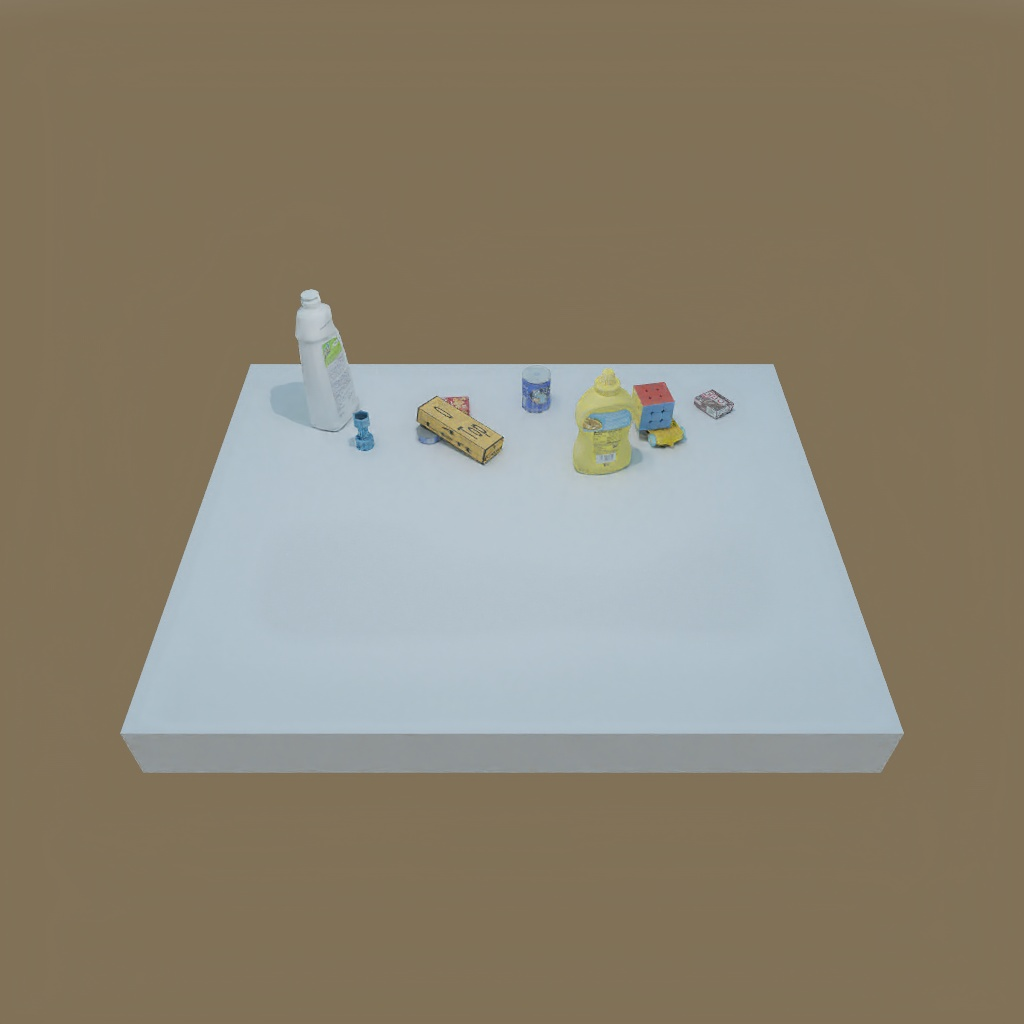jenga: (413, 393, 503, 465)
master_chef_can: (519, 367, 555, 413)
mustard_bottle: (574, 375, 634, 475)
pudding_box: (693, 386, 736, 420)
rubiks_cube: (632, 380, 675, 433)
